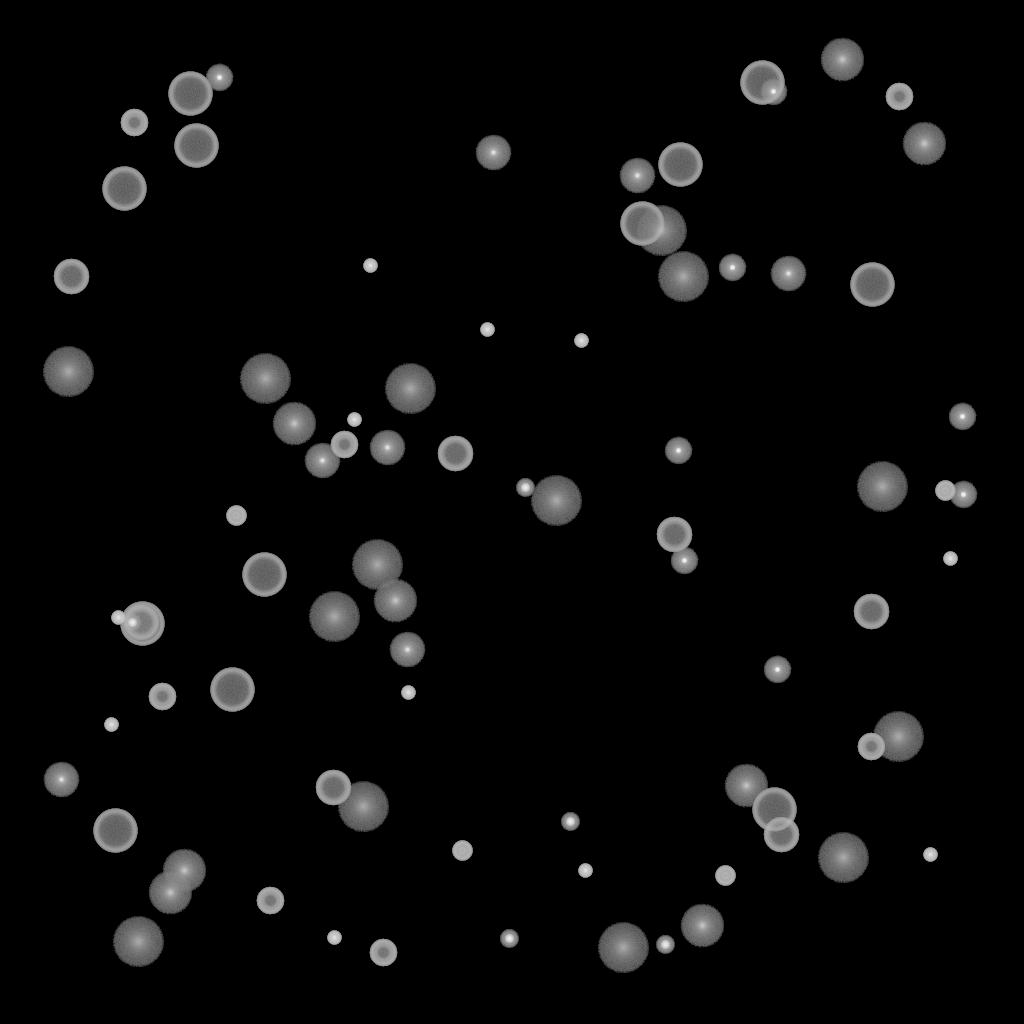depth:-10: (759, 78, 787, 106), (948, 403, 976, 431), (205, 64, 233, 92), (949, 481, 977, 509), (718, 254, 746, 282), (763, 656, 791, 684), (664, 437, 692, 465), (670, 547, 698, 575)
depth:-20: (500, 930, 518, 948), (516, 479, 534, 497), (123, 614, 141, 632), (656, 936, 674, 954), (561, 813, 579, 831)
depth:-30: (401, 686, 415, 700), (578, 864, 592, 878), (943, 552, 957, 566), (327, 931, 341, 945), (111, 611, 125, 625), (480, 323, 494, 337), (574, 334, 588, 348), (104, 718, 118, 732), (923, 848, 937, 862), (363, 259, 377, 273), (347, 413, 361, 427)
depth:-40: (226, 506, 246, 526), (715, 866, 735, 886), (935, 481, 955, 501), (452, 841, 472, 861)
depth:-50: (120, 109, 148, 137), (857, 733, 885, 761), (256, 887, 284, 915), (369, 939, 397, 967), (330, 431, 358, 459), (148, 683, 176, 711), (885, 83, 913, 111)
depth:-60: (763, 817, 799, 853), (53, 259, 89, 295), (315, 770, 351, 806), (853, 594, 889, 630), (656, 517, 692, 553), (123, 605, 159, 641), (437, 436, 473, 472)
depth:-70: (752, 788, 796, 832), (740, 61, 784, 105), (168, 72, 212, 116), (242, 553, 286, 597), (210, 668, 254, 712), (120, 602, 164, 646), (174, 124, 218, 168), (93, 809, 137, 853), (102, 167, 146, 211), (658, 143, 702, 187), (850, 263, 894, 307), (620, 202, 664, 246)
depth:0: (369, 430, 405, 466), (43, 762, 79, 798), (619, 158, 655, 194), (475, 135, 511, 171), (304, 443, 340, 479), (770, 256, 806, 292), (389, 632, 425, 668)
depth:10: (272, 402, 316, 446), (680, 904, 724, 948), (902, 122, 946, 166), (724, 764, 768, 808), (373, 579, 417, 623), (148, 871, 192, 915), (162, 849, 206, 893), (820, 38, 864, 82)
depth:20: (856, 462, 908, 512), (817, 833, 869, 883), (351, 540, 403, 590), (308, 592, 360, 642), (384, 364, 436, 414), (337, 782, 389, 832), (42, 347, 94, 397), (530, 476, 582, 526), (657, 252, 709, 302), (635, 206, 687, 256), (239, 354, 291, 404), (112, 917, 164, 967), (597, 923, 649, 973), (872, 712, 924, 762)
